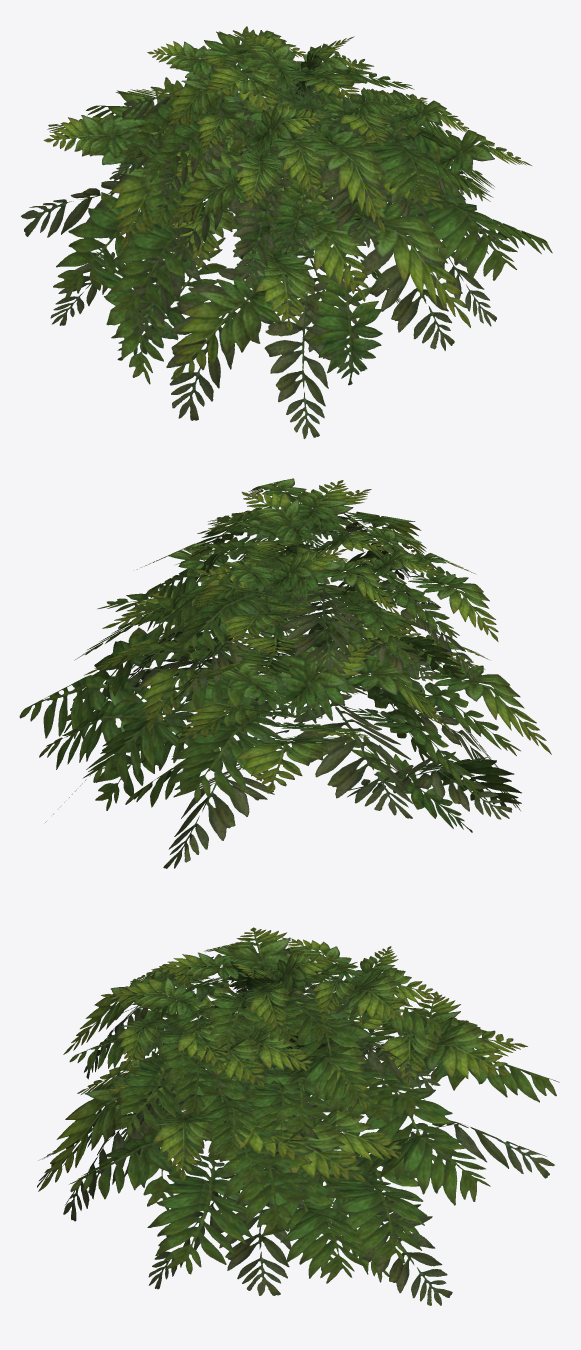
The model's file is wm_灌木大灌木01.fbx.
The picture shows the model from 3 angles, top to bottom: view 1: azimuth 30°, elevation 25°; view 2: azimuth 150°, elevation 25°; view 3: azimuth 270°, elevation 25°; orthographic projection. The views are drawn at different scales.
Visible parts, largest first — view 1: wm_灌木大灌木01; view 2: wm_灌木大灌木01; view 3: wm_灌木大灌木01.
Boxes of the visible parts, x1=… form: wm_灌木大灌木01: x1=21, y1=26, x2=552, y2=438; wm_灌木大灌木01: x1=19, y1=478, x2=551, y2=868; wm_灌木大灌木01: x1=37, y1=927, x2=559, y2=1305.
Size of the model in its own units: 331 by 204 by 336.
